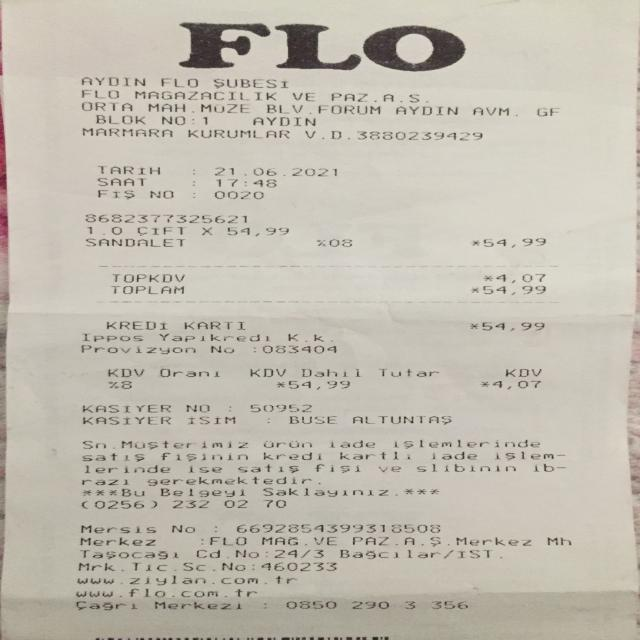text: (178, 20, 464, 71), (77, 574, 295, 586), (304, 128, 480, 142), (236, 522, 438, 533), (135, 87, 274, 102), (74, 587, 256, 598), (84, 212, 246, 224), (393, 436, 538, 448), (146, 476, 310, 486), (214, 165, 335, 178), (120, 438, 246, 450), (81, 342, 194, 355), (188, 126, 288, 140), (330, 90, 426, 104), (263, 486, 384, 497), (158, 332, 268, 343), (339, 548, 438, 560), (80, 548, 177, 560), (82, 125, 171, 138), (352, 414, 450, 425), (159, 450, 247, 462), (348, 536, 443, 547), (82, 402, 169, 414), (82, 414, 169, 426), (154, 598, 240, 610), (214, 76, 286, 90), (85, 237, 184, 247), (415, 462, 514, 472), (131, 560, 213, 572), (494, 448, 564, 462), (82, 463, 168, 474), (316, 101, 379, 116), (260, 560, 336, 572), (396, 102, 456, 117), (80, 74, 144, 88), (253, 114, 314, 128), (339, 450, 409, 462), (159, 487, 243, 497), (80, 535, 154, 546), (96, 163, 158, 176), (81, 450, 143, 463), (111, 272, 183, 283), (112, 284, 183, 295), (81, 499, 158, 509), (260, 344, 337, 354), (80, 523, 155, 533), (74, 599, 136, 611), (456, 536, 530, 546), (106, 319, 167, 331), (228, 225, 288, 237), (184, 319, 244, 331), (159, 366, 219, 378), (250, 402, 310, 414), (238, 462, 298, 474), (80, 99, 131, 113), (216, 176, 275, 188), (379, 366, 438, 378), (301, 366, 359, 378), (262, 450, 320, 462), (96, 112, 144, 126), (288, 379, 349, 390), (482, 321, 542, 332), (82, 332, 142, 343), (262, 437, 311, 450), (482, 284, 545, 294), (97, 175, 144, 188), (137, 224, 184, 237), (430, 449, 476, 462), (285, 598, 334, 610), (481, 237, 546, 246), (214, 188, 262, 200), (188, 414, 234, 426), (80, 476, 126, 488), (278, 548, 324, 560), (329, 437, 374, 449), (266, 101, 303, 115), (288, 414, 335, 425), (313, 462, 358, 473), (472, 103, 507, 117), (496, 273, 544, 283), (284, 332, 332, 342), (257, 536, 305, 546), (82, 87, 118, 100), (456, 548, 493, 560), (77, 560, 114, 572), (161, 76, 197, 88), (97, 188, 133, 200), (107, 366, 143, 378), (351, 598, 387, 610), (86, 224, 121, 236), (250, 366, 285, 378), (431, 598, 466, 610), (493, 380, 539, 389), (210, 535, 246, 546), (188, 462, 220, 473), (172, 498, 207, 508), (233, 548, 258, 560), (534, 462, 563, 472), (196, 548, 220, 560), (161, 113, 183, 126), (536, 104, 556, 118), (185, 402, 208, 414), (170, 522, 193, 534), (506, 368, 540, 376), (311, 536, 338, 546), (150, 188, 172, 200), (210, 344, 234, 355), (81, 438, 103, 450), (545, 535, 569, 546), (291, 90, 312, 102), (378, 462, 399, 474), (121, 487, 142, 498), (224, 498, 246, 508), (262, 498, 284, 508), (328, 238, 350, 246), (404, 598, 414, 610), (482, 273, 492, 284), (202, 225, 211, 237), (307, 101, 314, 115), (105, 381, 118, 388), (121, 379, 131, 388), (276, 379, 284, 390), (225, 548, 232, 560), (265, 548, 272, 560), (471, 238, 479, 248), (315, 238, 324, 246), (470, 284, 477, 294), (470, 321, 476, 332), (480, 380, 486, 390), (449, 548, 454, 560), (202, 114, 206, 126), (251, 560, 254, 572)
